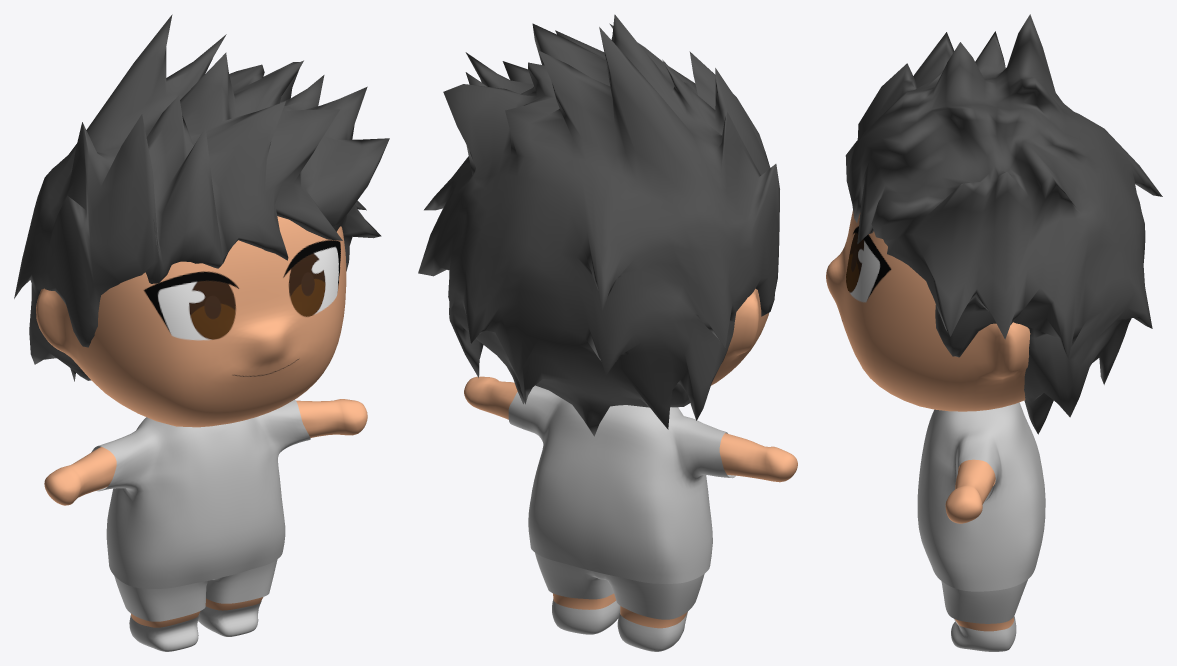
Rendered from qwe.fbx.
3 renders of one model, left to right at view 1: azimuth 30°, elevation 25°; view 2: azimuth 150°, elevation 25°; view 3: azimuth 270°, elevation 25°, orthographic. The views are drawn at different scales.
Parts seen in each view (by area): view 1: HAIR_1, KATANWAN1, RSHOES; view 2: HAIR_1, RSHOES, KATANWAN1; view 3: HAIR_1, KATANWAN1, RSHOES.
Boxes of the visible parts, box(x1,y1,x2,y2) form: HAIR_1: box(14, 14, 389, 381); KATANWAN1: box(36, 216, 367, 627); RSHOES: box(91, 399, 310, 651); HAIR_1: box(418, 14, 779, 436); RSHOES: box(508, 385, 735, 651); KATANWAN1: box(464, 288, 797, 628); HAIR_1: box(845, 14, 1162, 434); KATANWAN1: box(826, 211, 1030, 631); RSHOES: box(917, 402, 1045, 651).
Bounding box in the file's own units: 0.03 × 0.0509 × 0.0254.
